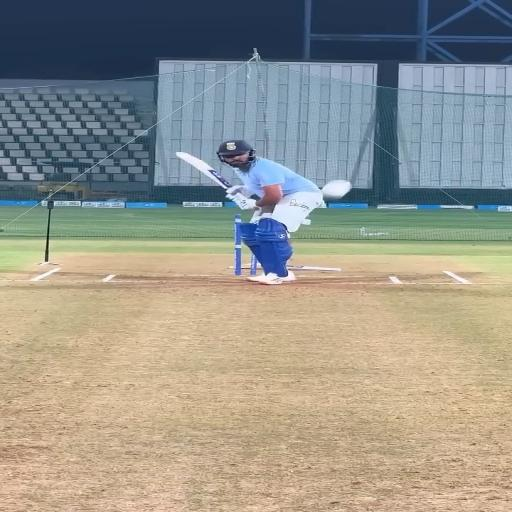Cricket bat: (176, 152, 231, 189)
